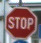stopsign: (5, 6, 38, 40)
